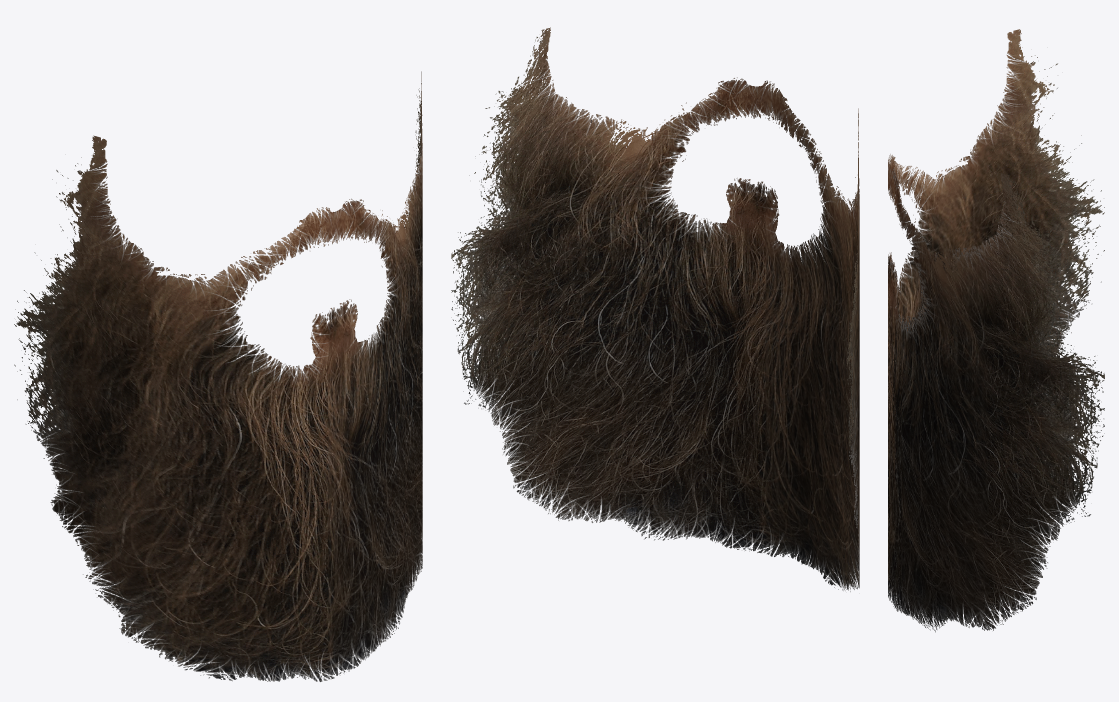
The model's file is Beard_Plane_T_01.fbx.
3 views of the same model, side by side, from view 1: azimuth 30°, elevation 25°; view 2: azimuth 150°, elevation 25°; view 3: azimuth 270°, elevation 25° (orthographic). The views are drawn at different scales.
Parts seen in each view (by area): view 1: pPlane2; view 2: pPlane2; view 3: pPlane2.
Boxes of the visible parts, box(x1,y1,x2,y2) form: pPlane2: box(14, 71, 422, 681); pPlane2: box(451, 27, 859, 591); pPlane2: box(888, 29, 1104, 632).
Size of the model in its own units: 15.49 by 20 by 7.94.
1 material, 1 textured.
